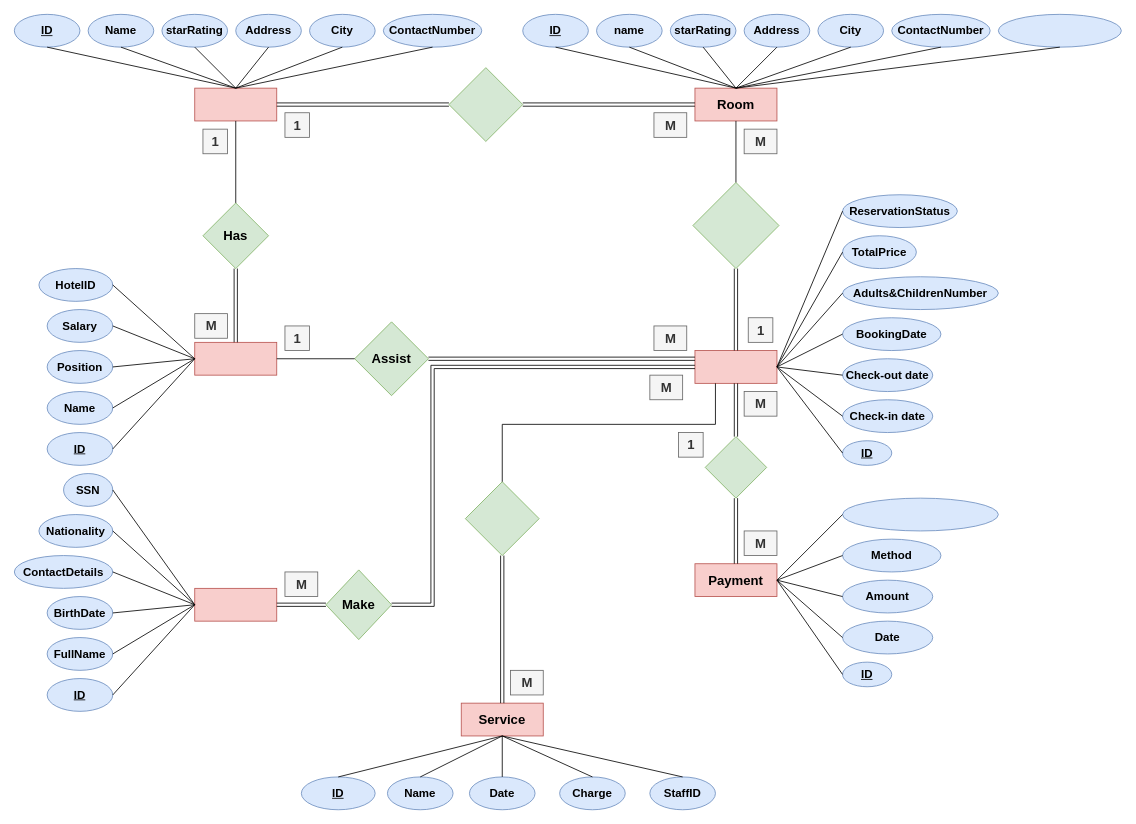
This 1136x824 diagram has some shape labels left out. Each missing label, with the centre of its shape:
"AdditionalAmenities" belongs at (1059,30).
"BookedBy" belongs at (735,225).
"ConfirmationNumber" belongs at (920,514).
"Contains" belongs at (485,104).
"Guest" belongs at (235,604).
"Have" belongs at (502,518).
"Hotel" belongs at (235,104).
"Reservation" belongs at (735,366).
"Staff" belongs at (235,358).
"With" belongs at (735,467).
